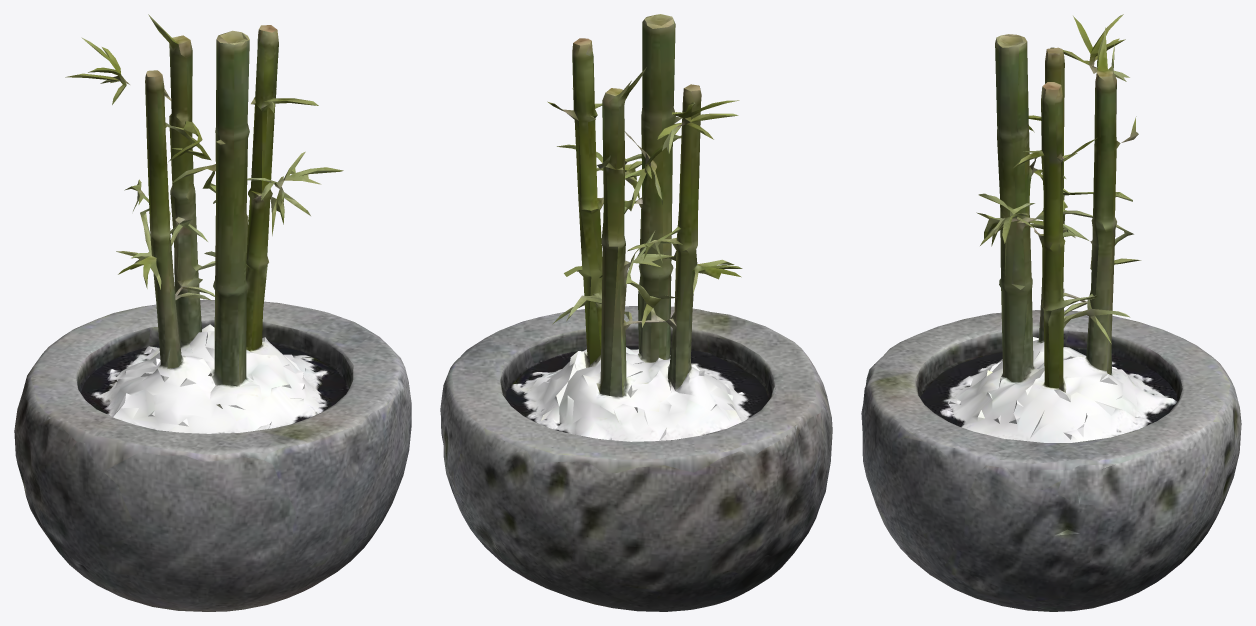
Rendered from shishi.glb.
3 renders of one model, left to right at view 1: azimuth 30°, elevation 25°; view 2: azimuth 150°, elevation 25°; view 3: azimuth 270°, elevation 25°, orthographic. The views are drawn at different scales.
Parts seen in each view (by area): view 1: shishi; view 2: shishi; view 3: shishi.
Boxes of the visible parts, x1=… form: shishi: x1=14, y1=14, x2=411, y2=611; shishi: x1=440, y1=14, x2=832, y2=611; shishi: x1=861, y1=14, x2=1241, y2=611.
Bounding box in the file's own units: 0.566 × 0.85 × 0.5481.
1 material, 1 textured.
